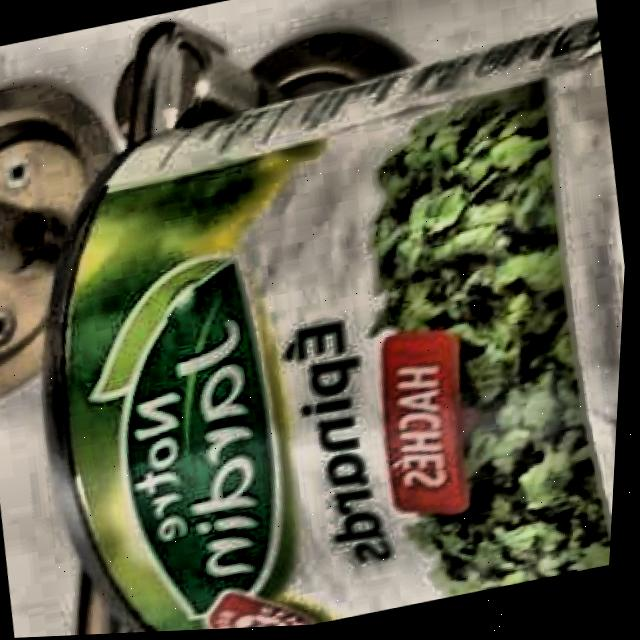metal: (43, 23, 628, 634)
